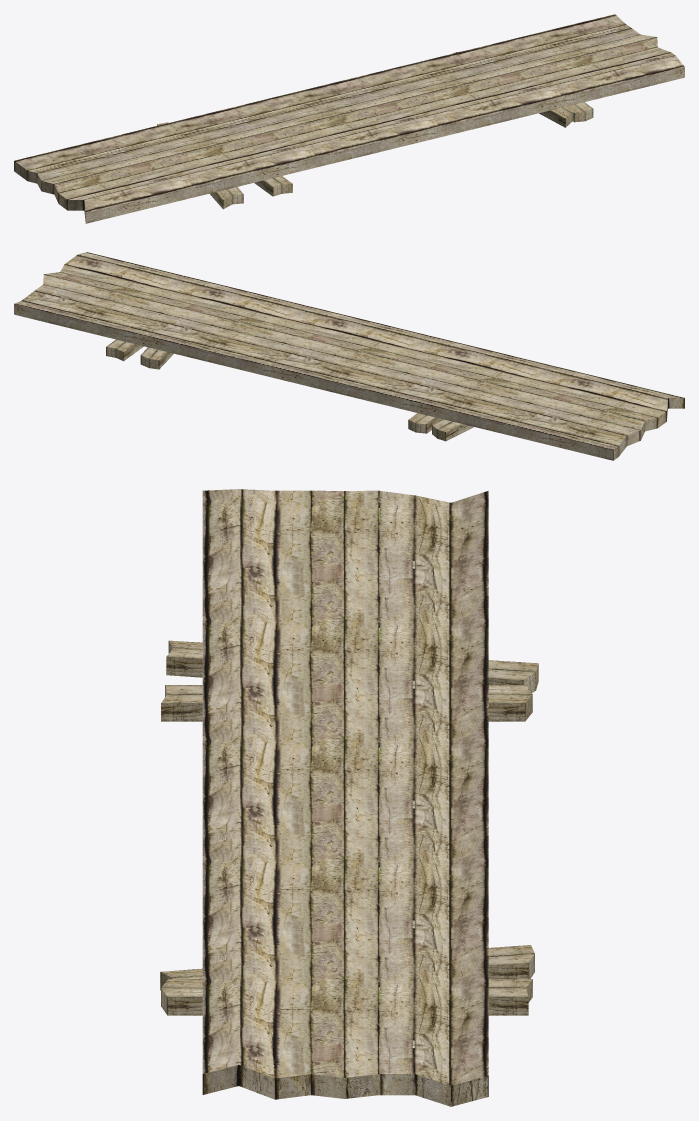
File: WoodPlank.fbx
The picture shows the model from 3 angles, top to bottom: view 1: azimuth 30°, elevation 25°; view 2: azimuth 150°, elevation 25°; view 3: azimuth 270°, elevation 25°; orthographic projection. The views are drawn at different scales.
Visible parts, largest first — view 1: Woodplank; view 2: Woodplank; view 3: Woodplank.
Boxes of the visible parts, x1,y1,x2,y2 form: Woodplank: (14,14,684,223); Woodplank: (14,252,684,460); Woodplank: (160,489,538,1106).
Bounding box in the file's own units: 94.55 × 3.88 × 25.57.
